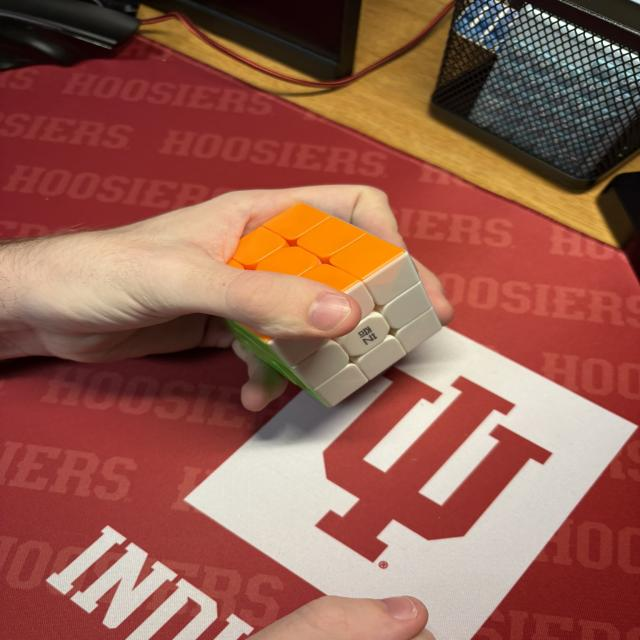Rubiks Cube: (217, 201, 443, 408)
